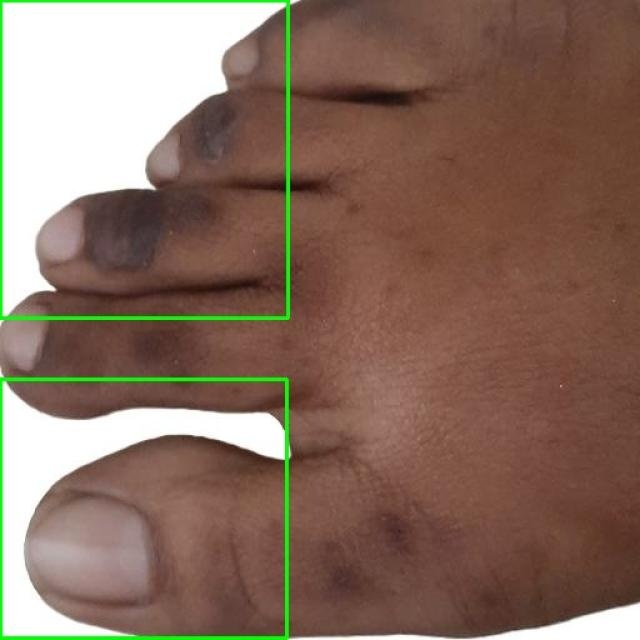Tinea Corporis: (0, 0, 288, 318), (0, 380, 288, 639)
